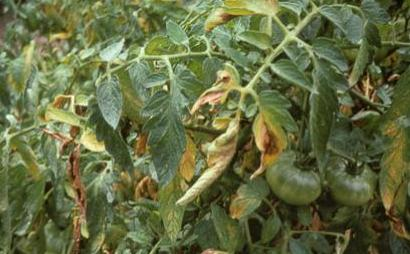Tomato Early blight leaf: (174, 112, 244, 204), (377, 117, 410, 237), (250, 87, 289, 177), (183, 66, 241, 113), (198, 0, 277, 33), (347, 16, 382, 88)
Tomato leaf: (307, 64, 345, 167), (148, 89, 187, 184), (99, 74, 122, 130)
